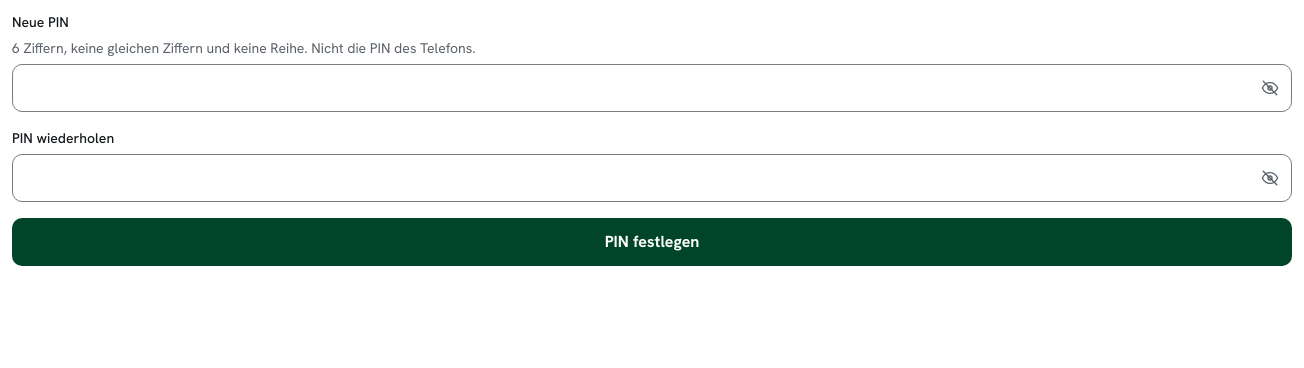
PinFestlegen › setzt keine PIN, wenn der Passkey ein anderes Konto anmeldet
The width and height of the screenshot is (1304, 368).
Type "483920" into the password field labelled "Neue PIN" at (652, 88), box [12, 64, 1292, 112]
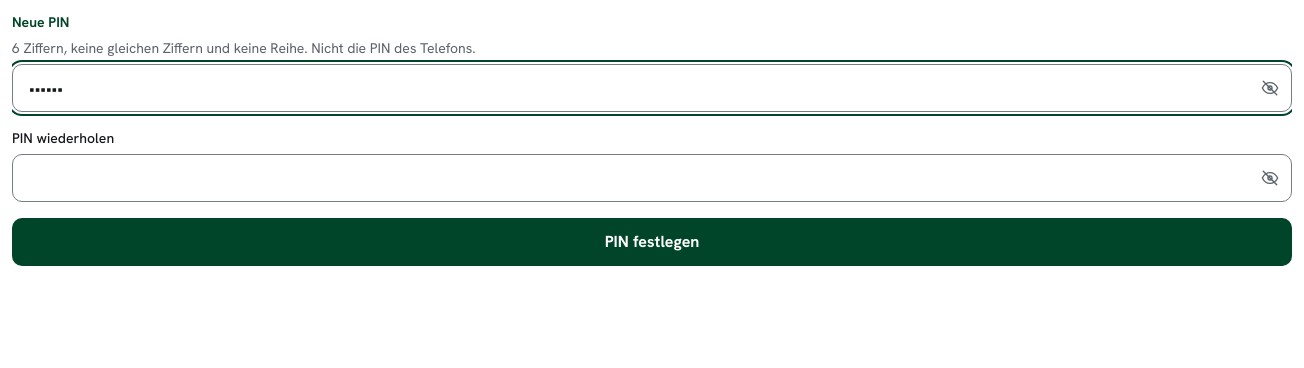
Type "483920" into the password field labelled "PIN wiederholen" at (652, 178), box [12, 154, 1292, 202]
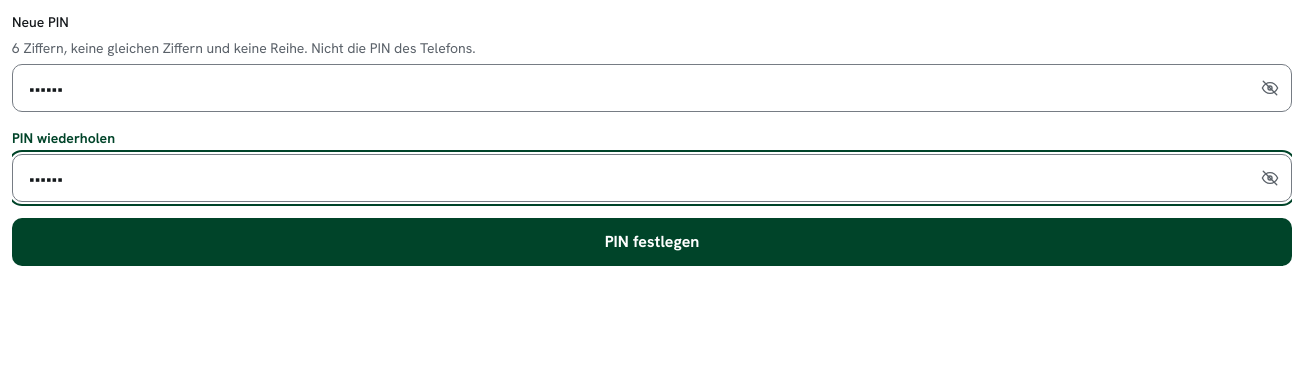
Click the button "PIN festlegen" at (652, 242), box [12, 218, 1292, 266]
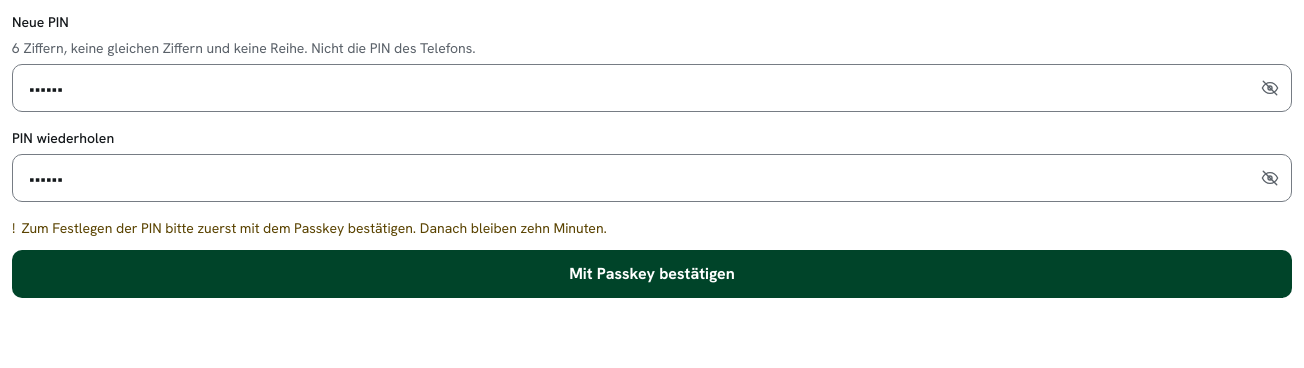
Click the button "Mit Passkey bestätigen" at (652, 274), box [12, 250, 1292, 298]
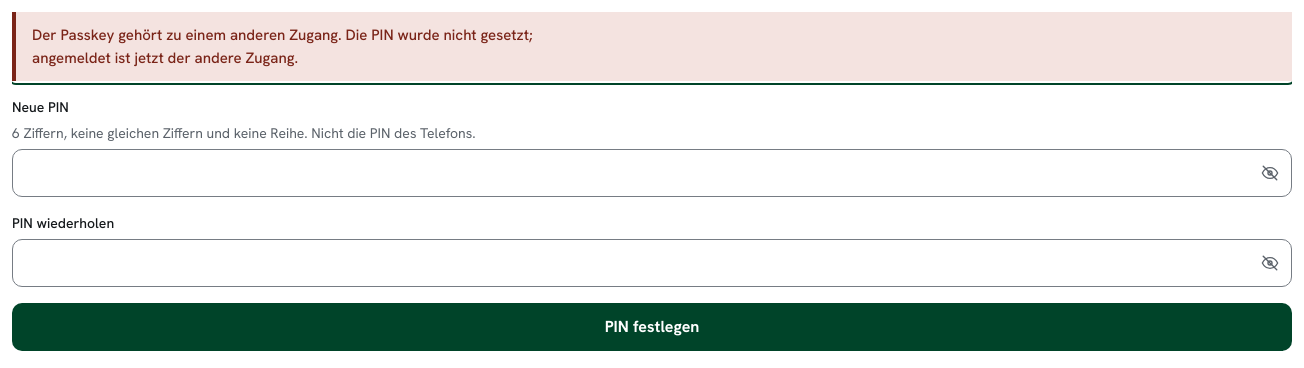
Result: the text "gehört zu einem anderen Zugang" is shown at [32, 25, 533, 68]
